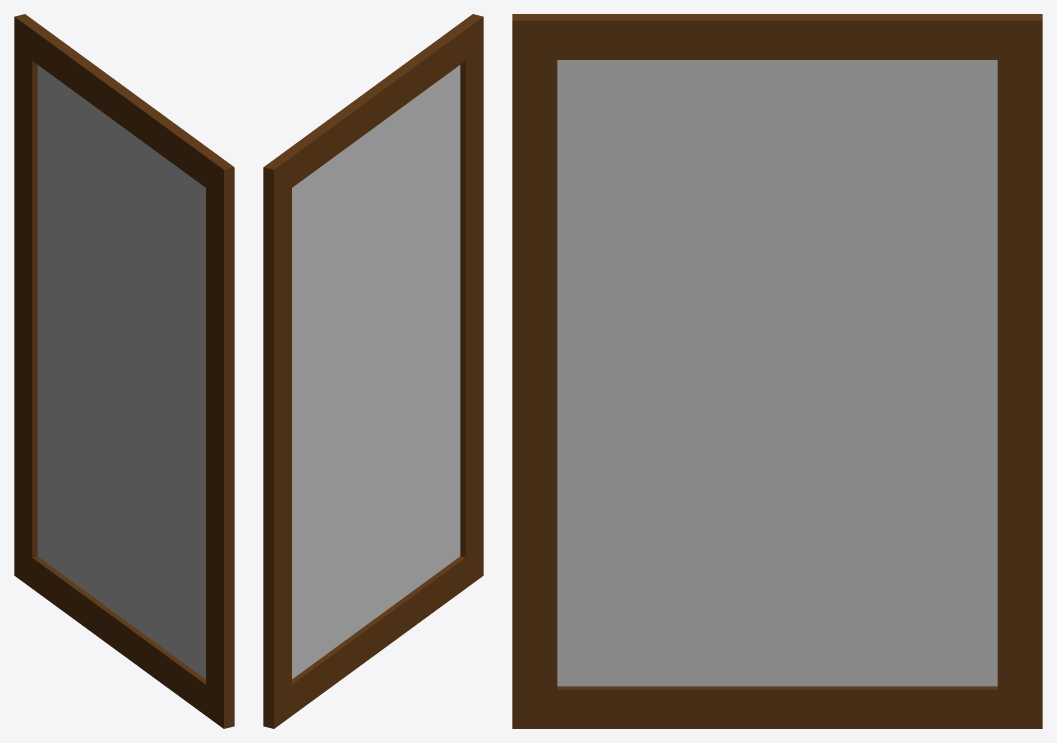
File: Painting_1.fbx
3 renders of one model, left to right at view 1: azimuth 30°, elevation 25°; view 2: azimuth 150°, elevation 25°; view 3: azimuth 270°, elevation 25°, orthographic. The views are drawn at different scales.
Visible parts, largest first — view 1: Plane; view 2: Plane; view 3: Plane.
Part boxes in pixels (x1,y1,x2,y2): Plane: (14, 14, 234, 728); Plane: (263, 14, 483, 728); Plane: (512, 14, 1042, 728).
Size of the model in its own units: 4.7 by 235 by 160.
